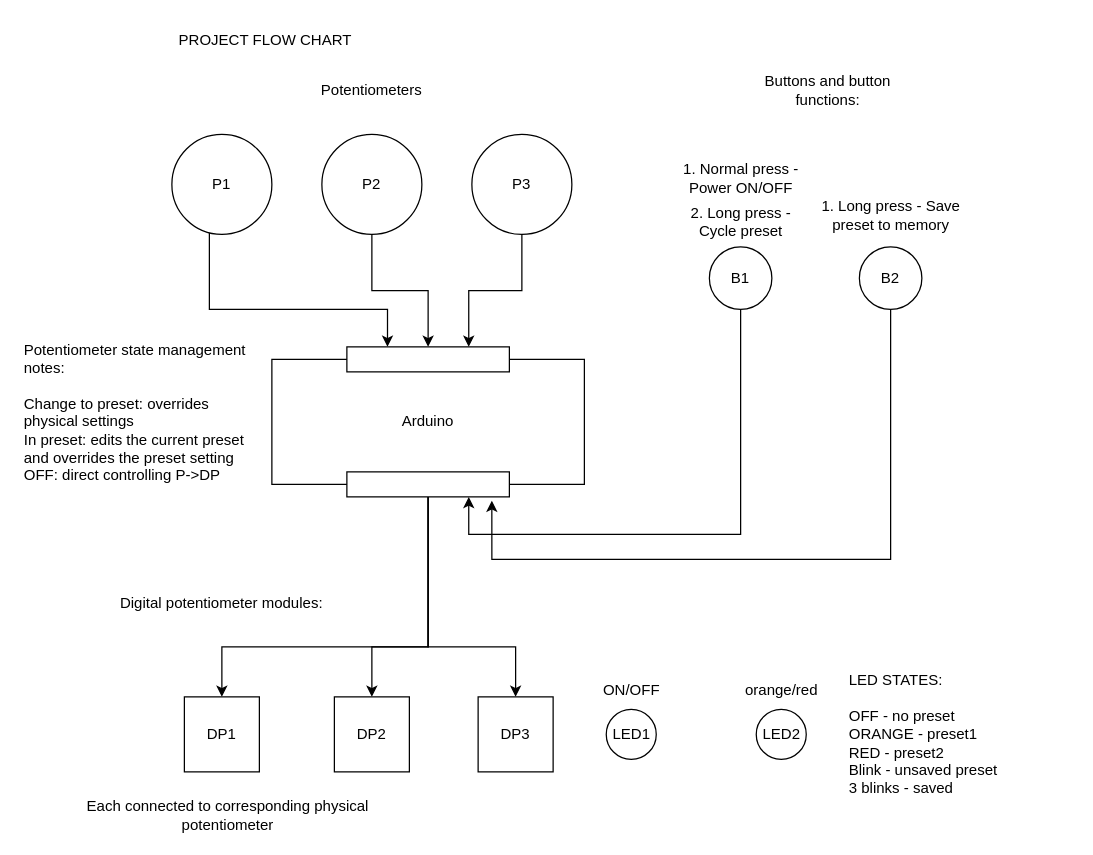
This 1093x855 diagram has some shape labels left out. Here are the shapes that lost their labels. From the top down, the box of each, then its label:
(346, 346, 509, 372): Analog I/O
(346, 471, 509, 497): Digital I/O
